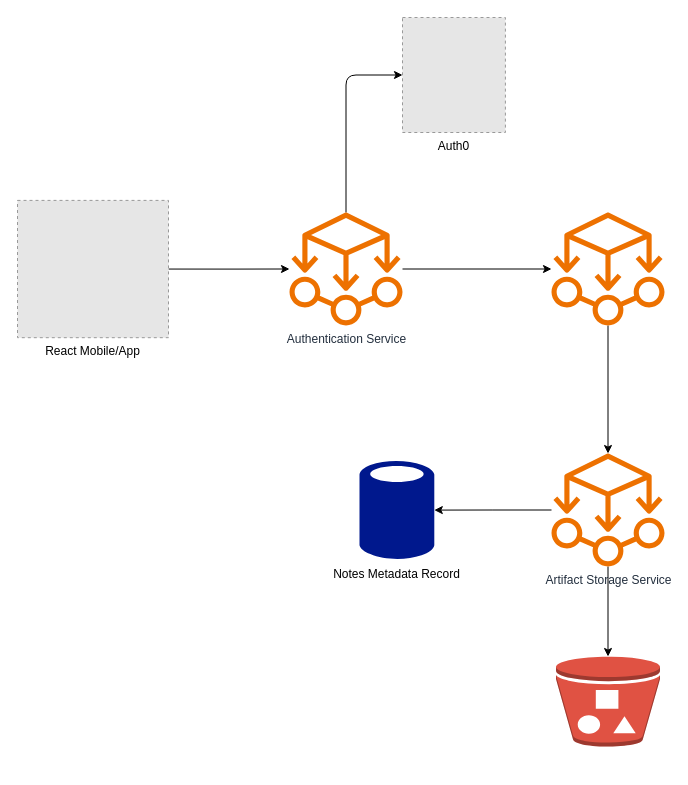
The diagram is 688 pixels wide and 785 high, and some of its shapes have lost their labels. Grey dashed boxes stand in for pictures. The centre of each missing label's shape, as x and y in pixels:
Handler Service: (607,268)
Notes Document: (607,701)
